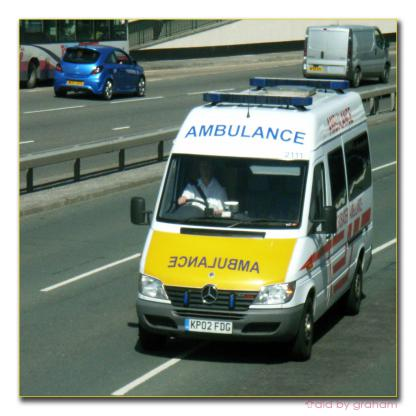Ambulance: (130, 77, 375, 364)
